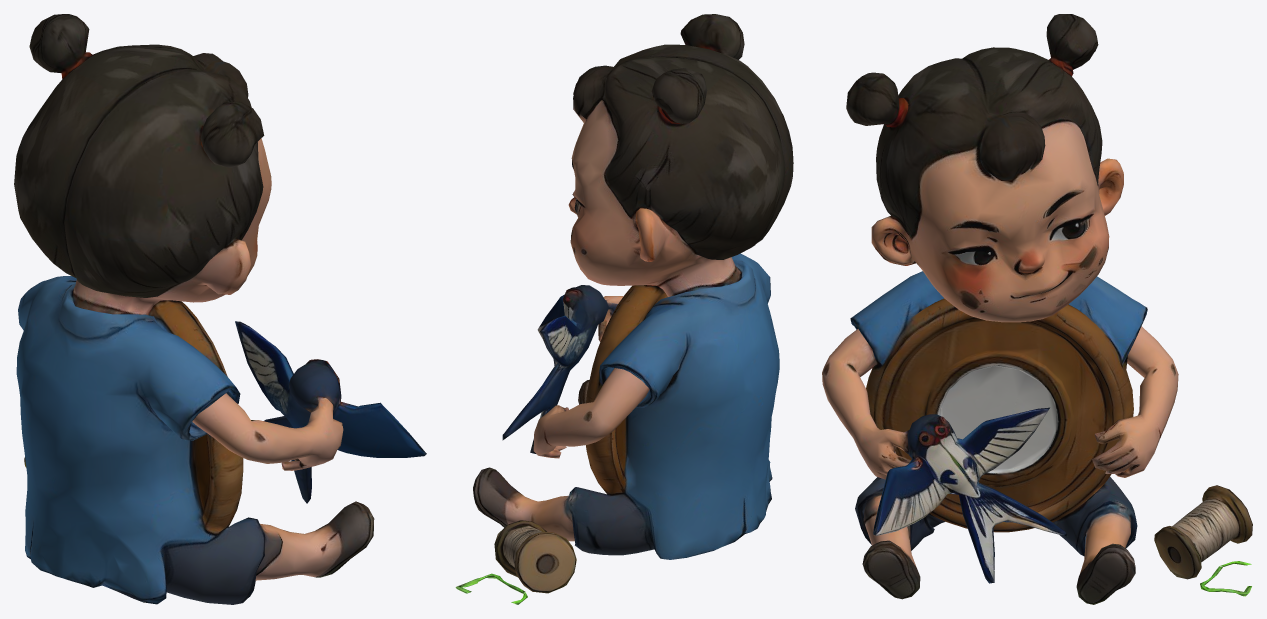
The model's file is n_fengzheng.glb.
3 views of the same model, side by side, from view 1: azimuth 30°, elevation 25°; view 2: azimuth 150°, elevation 25°; view 3: azimuth 270°, elevation 25° (orthographic). The views are drawn at different scales.
Visible parts, largest first — view 1: tripo_node_4bbdcb1f-4d44-44ca-b0ed-1696943d3bd4; view 2: tripo_node_4bbdcb1f-4d44-44ca-b0ed-1696943d3bd4; view 3: tripo_node_4bbdcb1f-4d44-44ca-b0ed-1696943d3bd4.
Boxes of the visible parts, x1,y1,x2,y2 form: tripo_node_4bbdcb1f-4d44-44ca-b0ed-1696943d3bd4: (14, 14, 426, 604); tripo_node_4bbdcb1f-4d44-44ca-b0ed-1696943d3bd4: (455, 14, 793, 604); tripo_node_4bbdcb1f-4d44-44ca-b0ed-1696943d3bd4: (822, 14, 1252, 604).
Size of the model in its own units: 0.6329 by 1 by 0.7625.
Materials: 1 (1 with a texture image).
